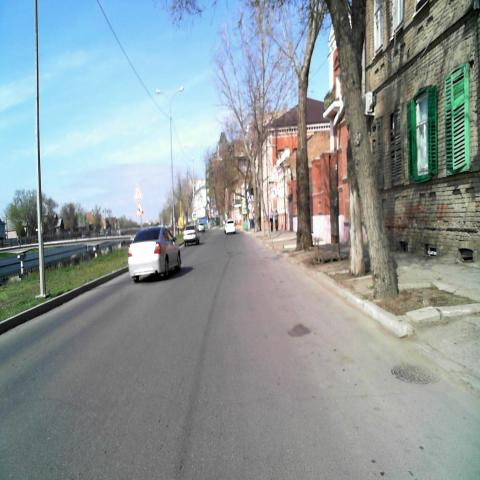1_20_2: (269, 164, 281, 182), (133, 181, 143, 201)
